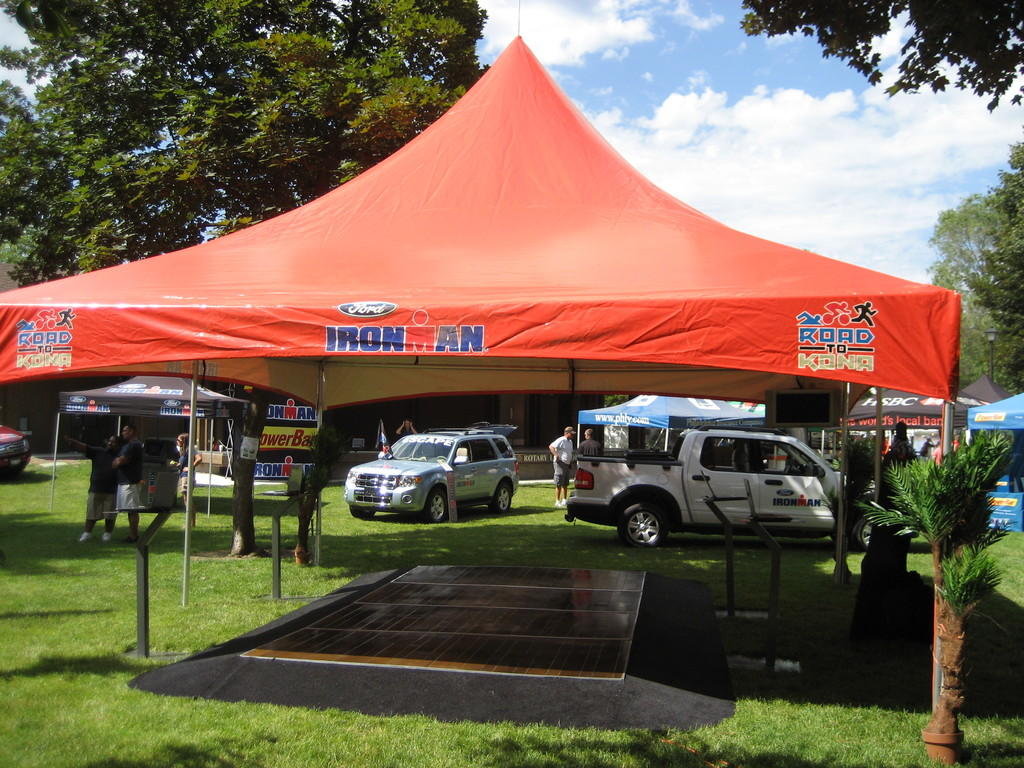Car: (342, 422, 522, 524), (3, 416, 31, 478)
